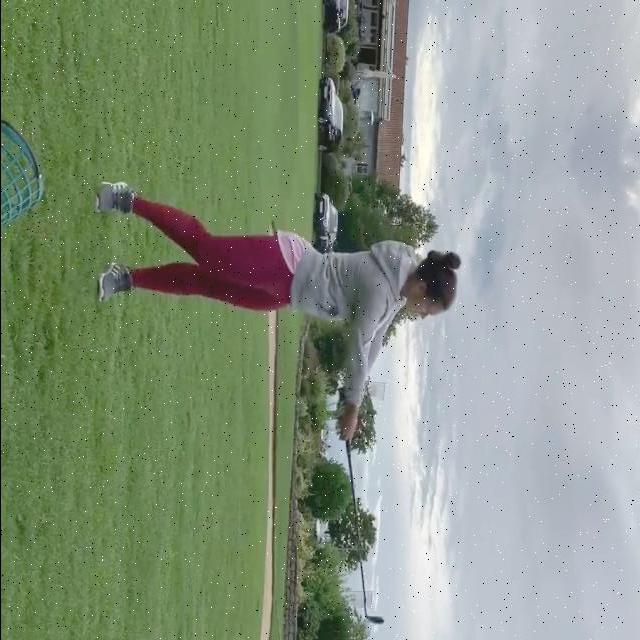ClubHandle: (335, 386, 386, 628)
ClubHead: (365, 615, 384, 626)
